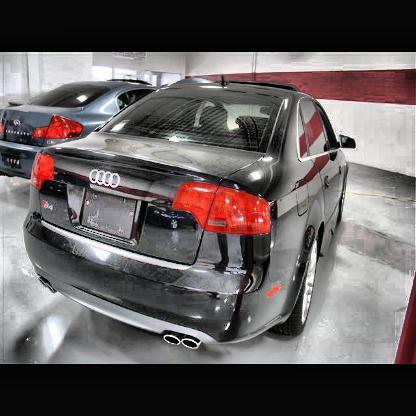Audi S4 Sedan 2007: (25, 77, 358, 350)
